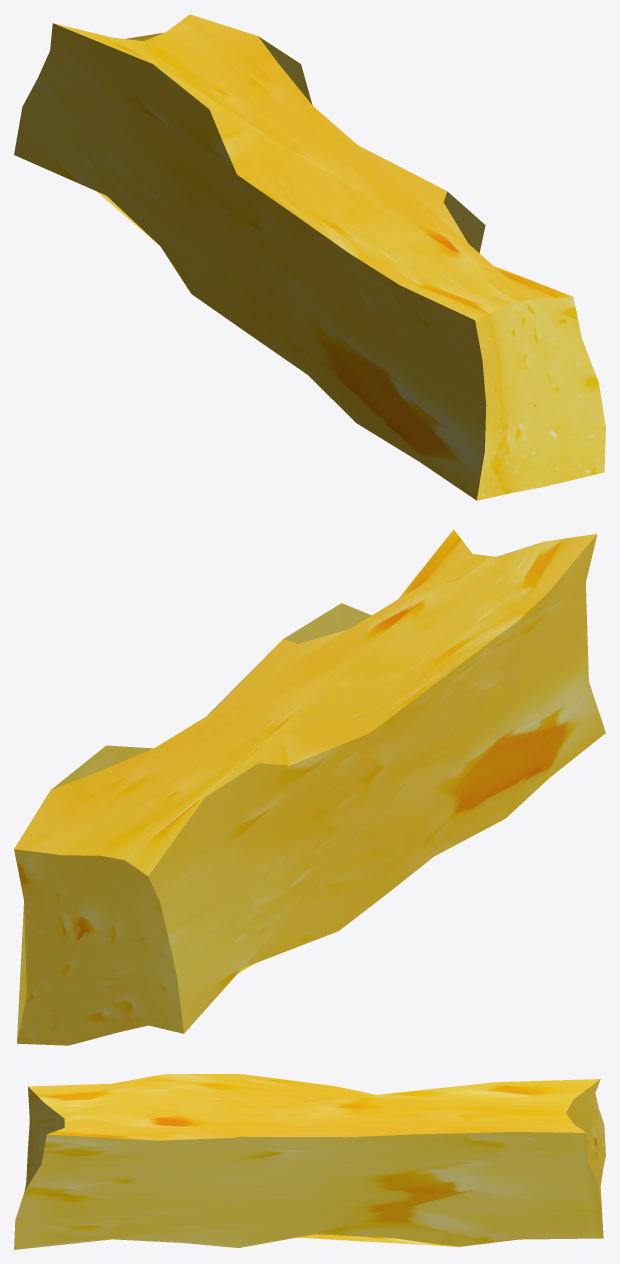
File: cheese_los.obj
3 views of the same model, one above another, from view 1: azimuth 30°, elevation 25°; view 2: azimuth 150°, elevation 25°; view 3: azimuth 270°, elevation 25° (orthographic). The views are drawn at different scales.
Visible parts, largest first — view 1: Cube_Cube.002; view 2: Cube_Cube.002; view 3: Cube_Cube.002.
Part boxes in pixels (<box>): Cube_Cube.002: <box>14,14,605,500</box>; Cube_Cube.002: <box>14,529,605,1045</box>; Cube_Cube.002: <box>14,1074,605,1249</box>.
Bounding box in the file's own units: 0.0129 × 0.0128 × 0.052.
1 material, 1 textured.
